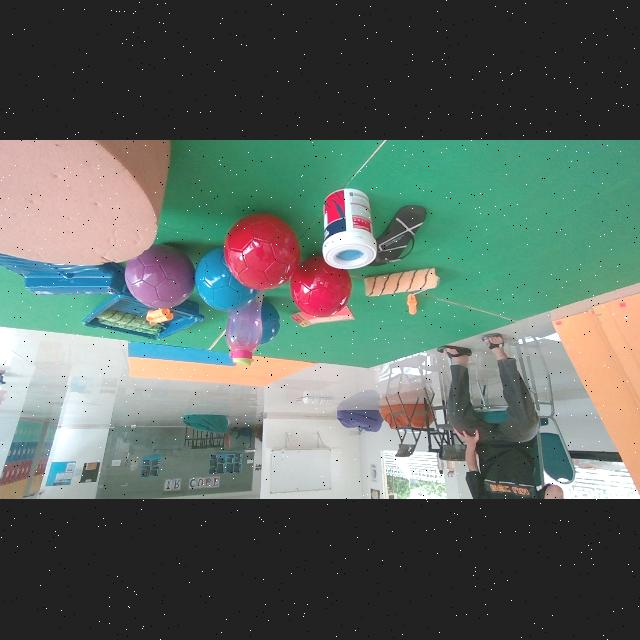B: (195, 249, 257, 312), (260, 301, 280, 345)
P: (125, 245, 194, 309)
R: (223, 214, 300, 290), (290, 256, 352, 318)
